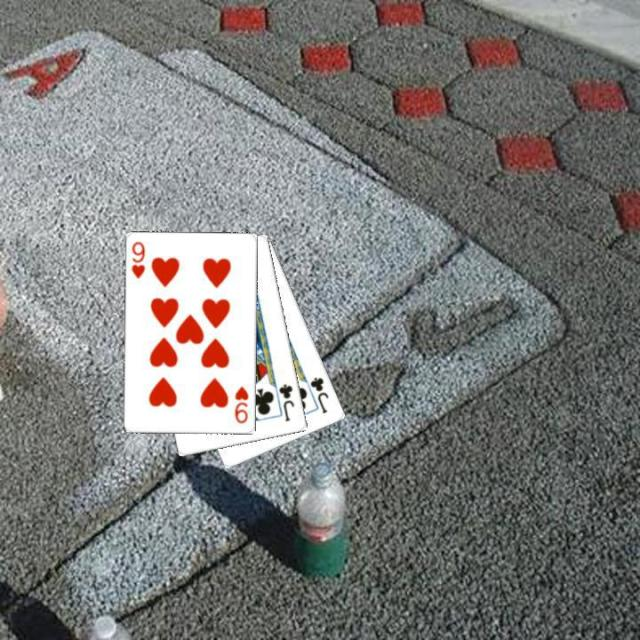9H: (231, 382, 251, 426), (128, 238, 148, 281)
JC: (306, 373, 331, 415), (275, 381, 297, 423)
